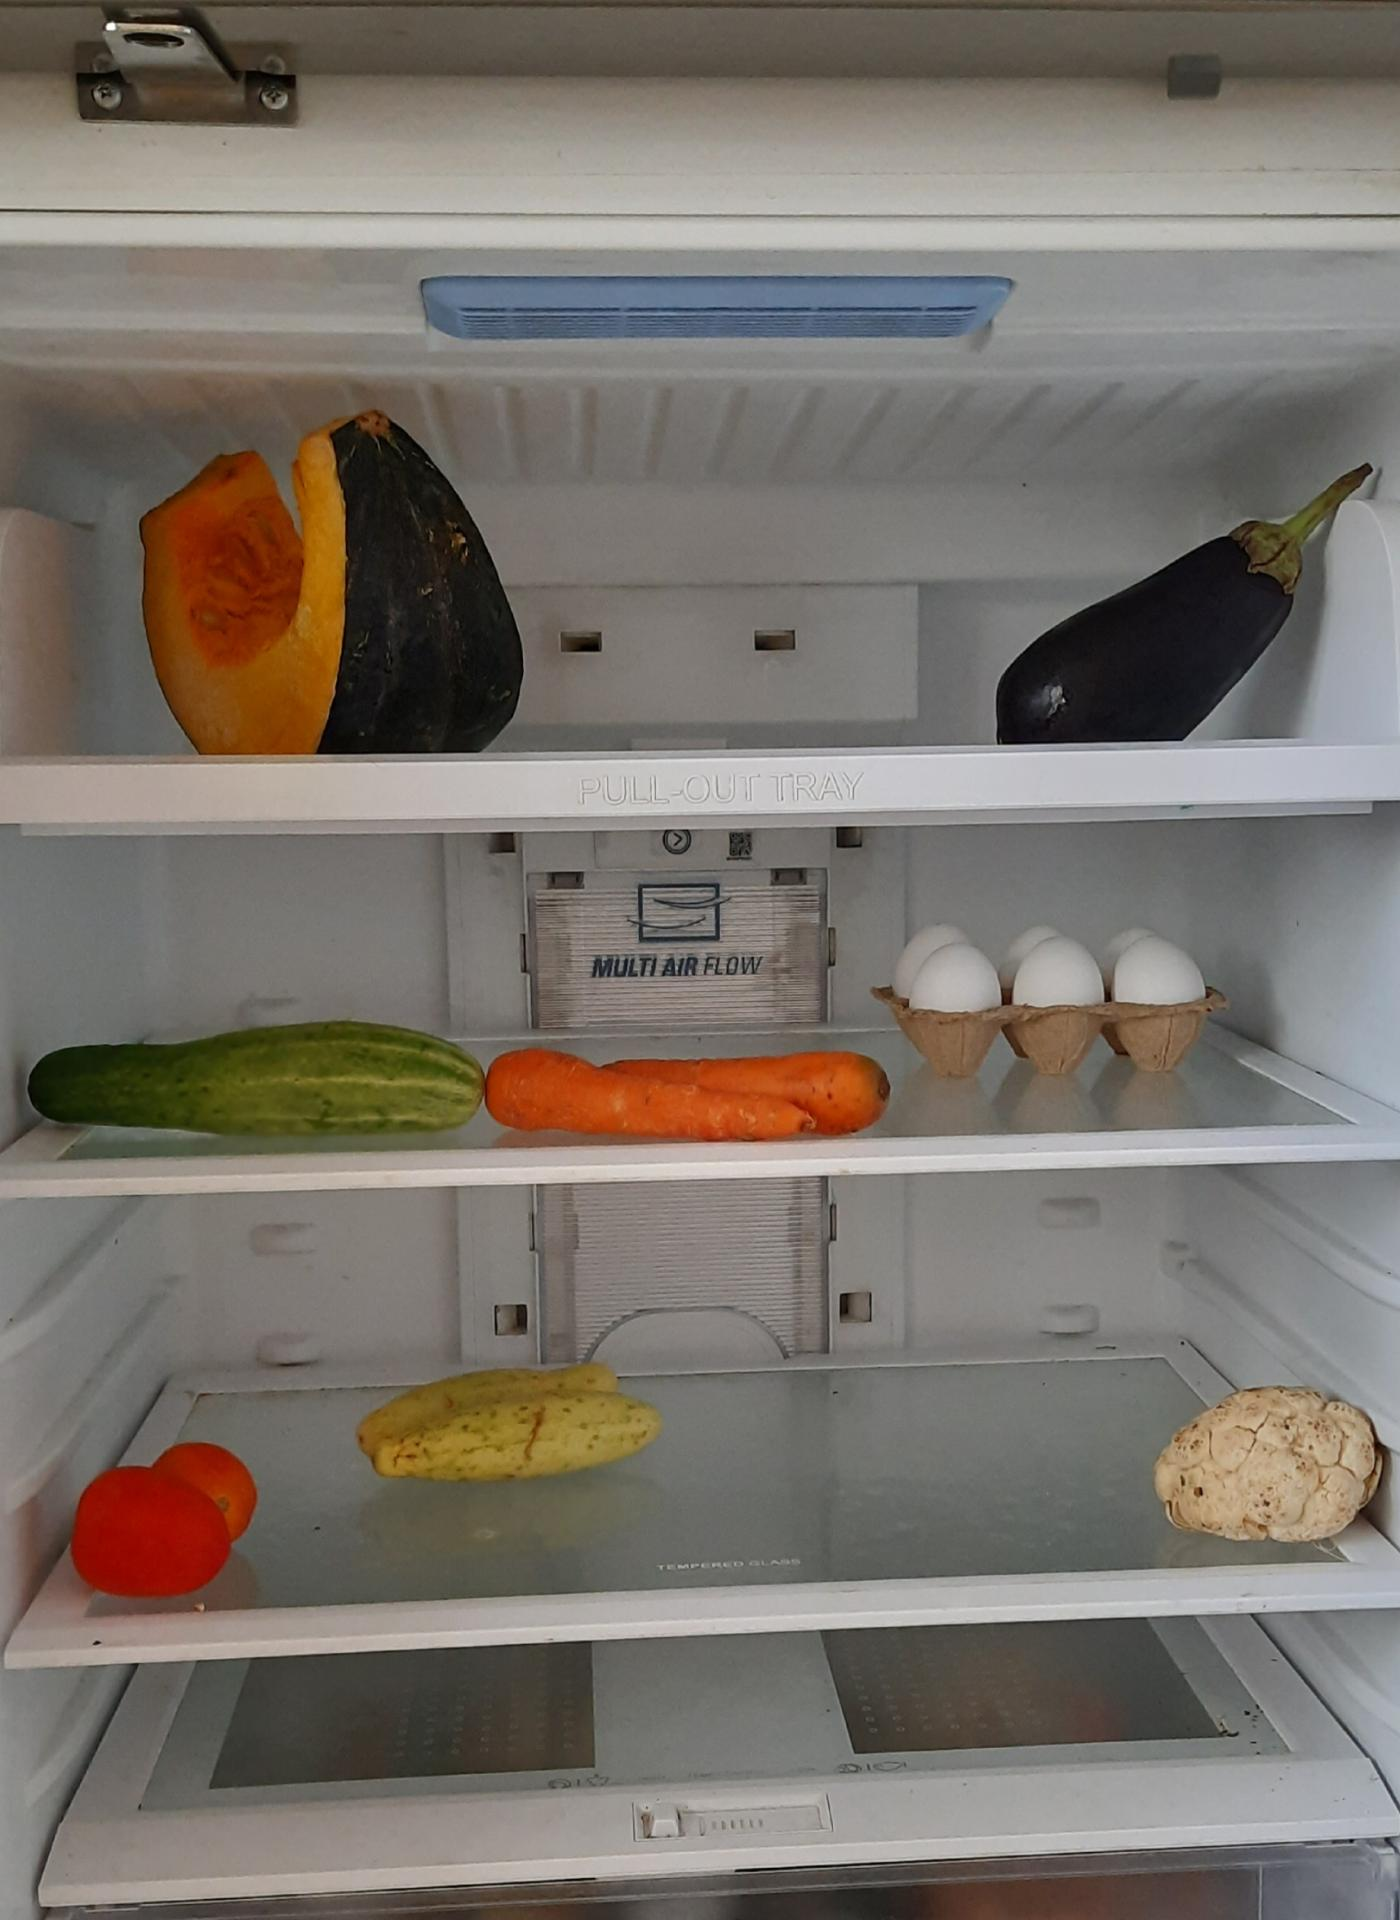brinjal: (977, 450, 1385, 750)
carrots: (485, 1043, 890, 1137)
cauliflower: (1148, 1382, 1388, 1543)
cucumber: (24, 1005, 492, 1146), (350, 1360, 669, 1488)
egg: (886, 908, 1211, 1072)
pumpkin: (137, 411, 534, 765)
tomato: (72, 1443, 259, 1601)
